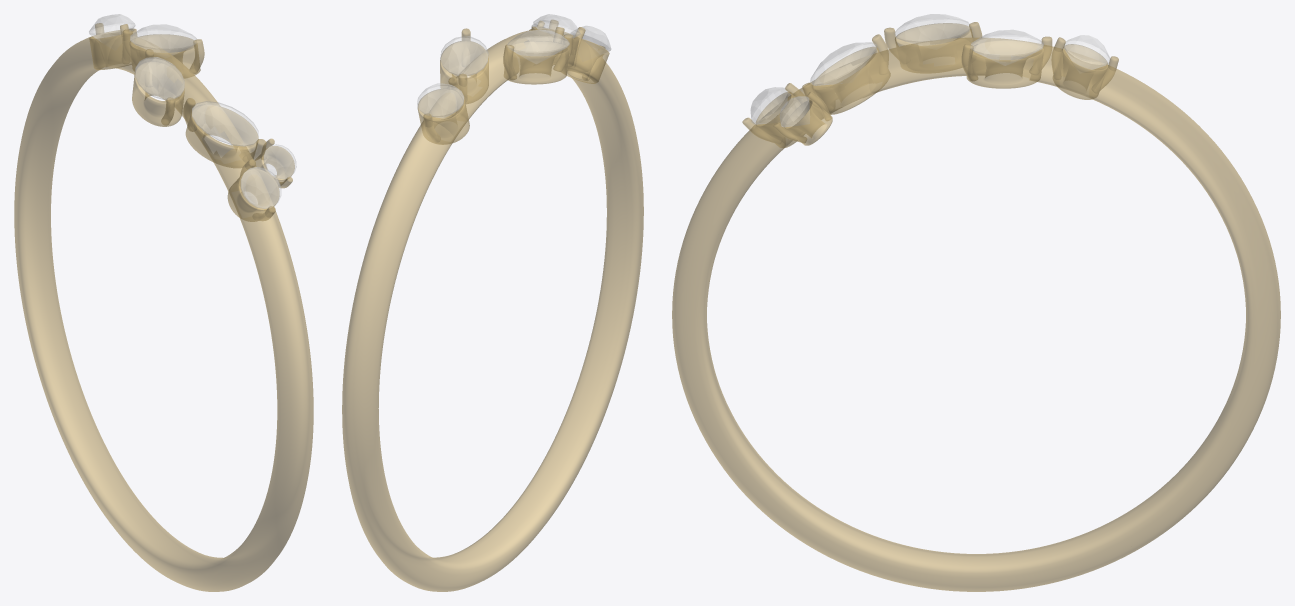
3 renders of one model, left to right at view 1: azimuth 30°, elevation 25°; view 2: azimuth 150°, elevation 25°; view 3: azimuth 270°, elevation 25°, orthographic. The views are drawn at different scales.
Visible parts, largest first — view 1: ring1, diamond1; view 2: ring1, diamond1; view 3: ring1, diamond1.
Part boxes in pixels (<box>): ring1: <box>14,23,313,591</box>; diamond1: <box>89,14,296,208</box>; ring1: <box>342,20,643,591</box>; diamond1: <box>417,14,610,117</box>; ring1: <box>672,22,1280,591</box>; diamond1: <box>750,14,1109,126</box>.
Size of the model in its own units: 0.424 by 2.32 by 2.27.
